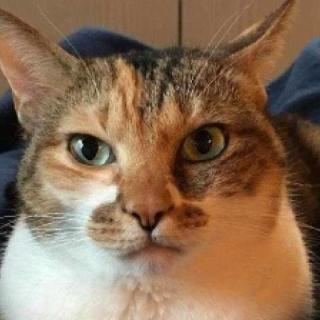cat: (0, 0, 297, 289)
nose: (113, 169, 181, 237)
